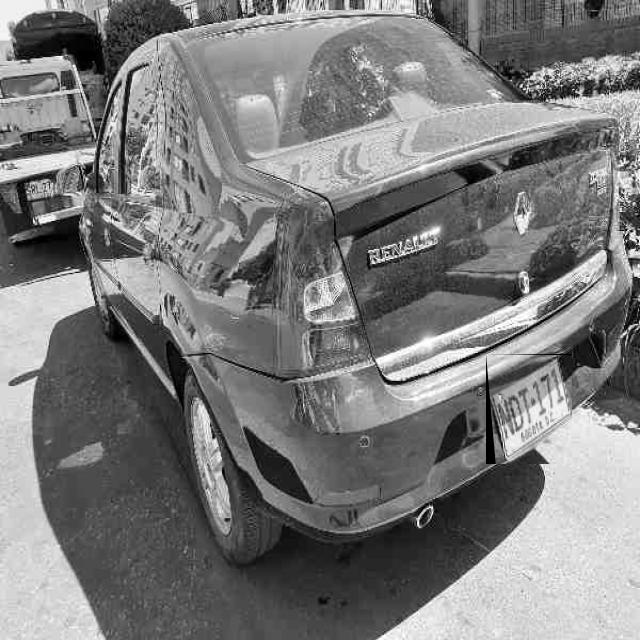plate: (489, 355, 572, 464)
